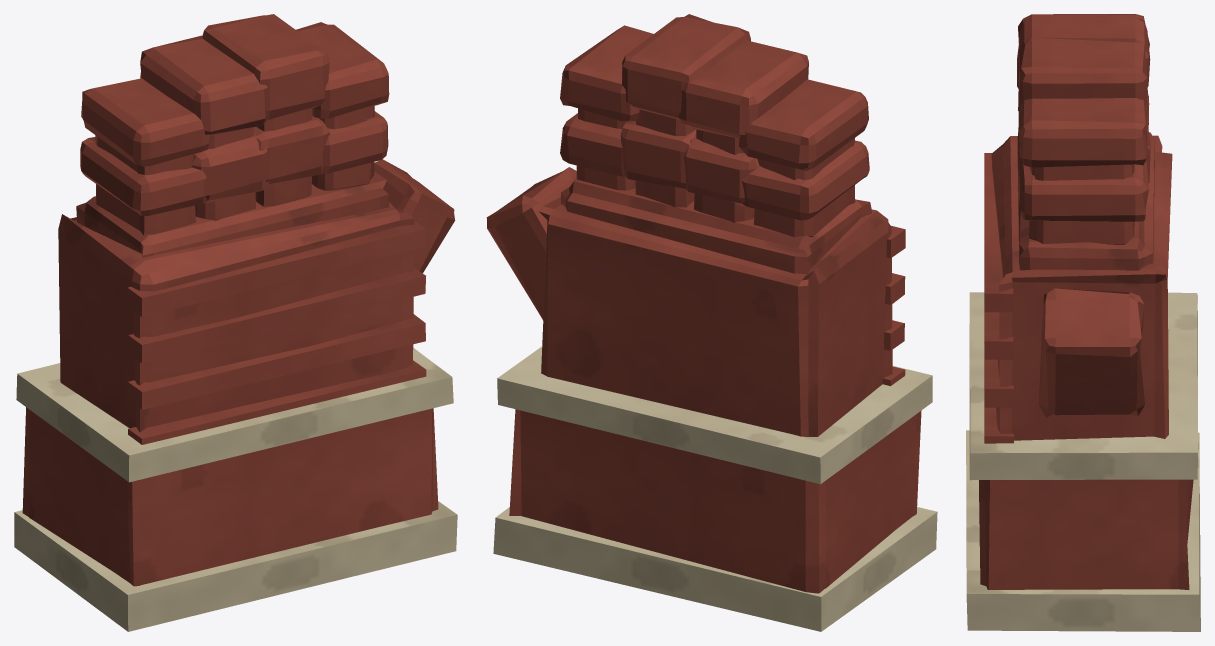
File: insulated_gloves.glb
The picture shows the model from 3 angles, left to right: view 1: azimuth 30°, elevation 25°; view 2: azimuth 150°, elevation 25°; view 3: azimuth 270°, elevation 25°; orthographic projection.
Visible parts, largest first — view 1: InsulatedGloves; view 2: InsulatedGloves; view 3: InsulatedGloves.
Boxes of the visible parts, x1,y1,x2,y2 form: InsulatedGloves: [14, 14, 457, 631]; InsulatedGloves: [486, 14, 937, 631]; InsulatedGloves: [966, 14, 1200, 631].
Bounding box in the file's own units: 0.4179 × 0.5502 × 0.2256.
Materials: 2 (2 with a texture image).
